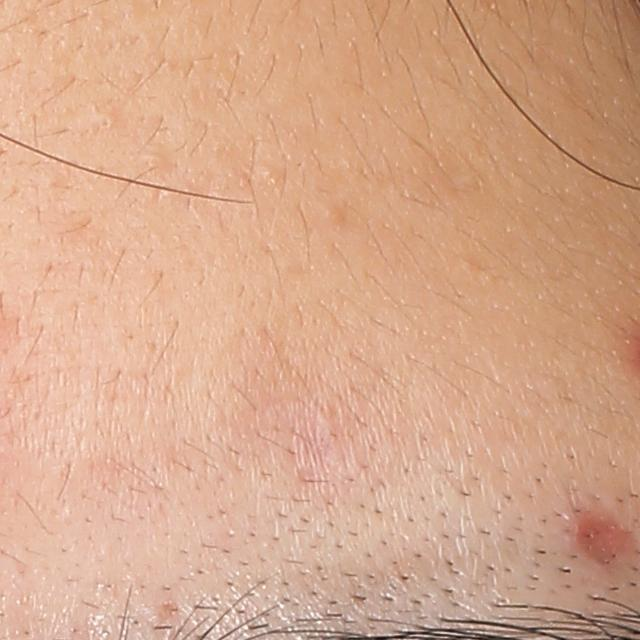comedo: (318, 197, 346, 227), (92, 112, 117, 133), (257, 165, 273, 187)
